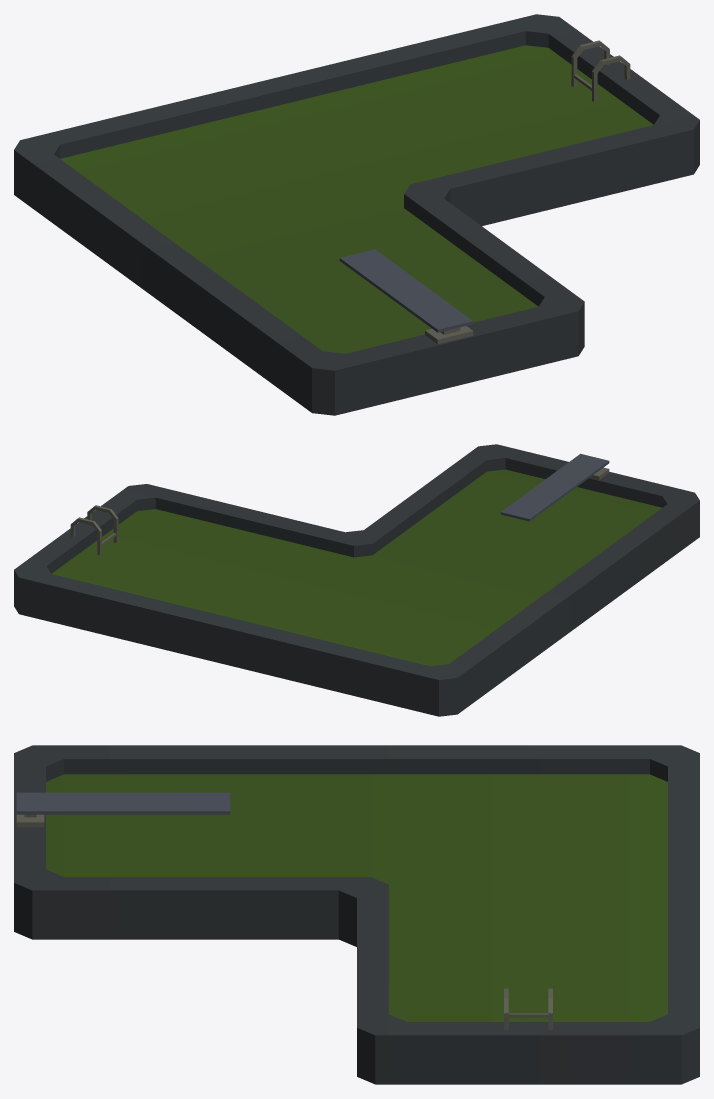
Rendered from Pool_01.fbx.
3 renders of one model, top to bottom at view 1: azimuth 30°, elevation 25°; view 2: azimuth 150°, elevation 25°; view 3: azimuth 270°, elevation 25°, orthographic. The views are drawn at different scales.
Parts seen in each view (by area): view 1: Pool_01; view 2: Pool_01; view 3: Pool_01.
Part boxes in pixels (x1,y1,x2,y2): Pool_01: (14,14,699,415); Pool_01: (14,444,699,716); Pool_01: (14,745,699,1084).
Size of the model in its own units: 4 by 0.4861 by 4.
